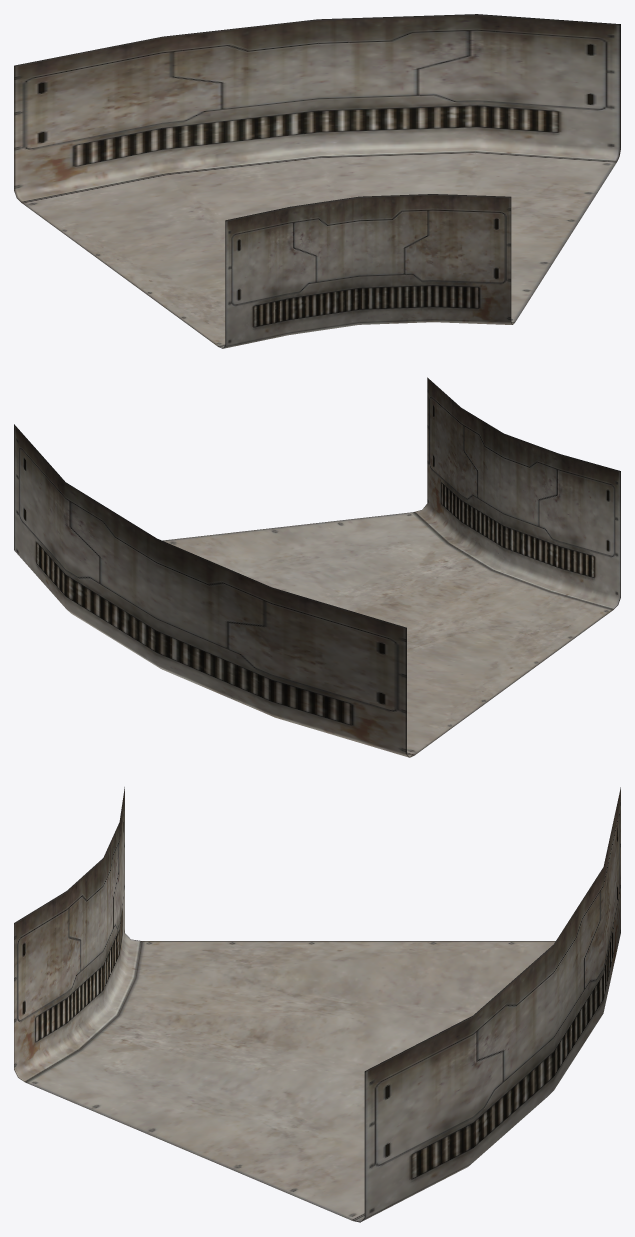
The model's file is lab_ceiling_box_turn_45_left.dae.
3 views of the same model, one above another, from view 1: azimuth 30°, elevation 25°; view 2: azimuth 150°, elevation 25°; view 3: azimuth 270°, elevation 25° (orthographic). The views are drawn at different scales.
Parts seen in each view (by area): view 1: lab_ceiling_box_turn_45_left; view 2: lab_ceiling_box_turn_45_left; view 3: lab_ceiling_box_turn_45_left.
Part boxes in pixels (left/top/right/bottom): lab_ceiling_box_turn_45_left: left=14, top=14, right=620, bottom=348; lab_ceiling_box_turn_45_left: left=14, top=377, right=620, bottom=757; lab_ceiling_box_turn_45_left: left=14, top=787, right=620, bottom=1222.
Bounding box in the file's own units: 2.96 × 0.75 × 2.67.
